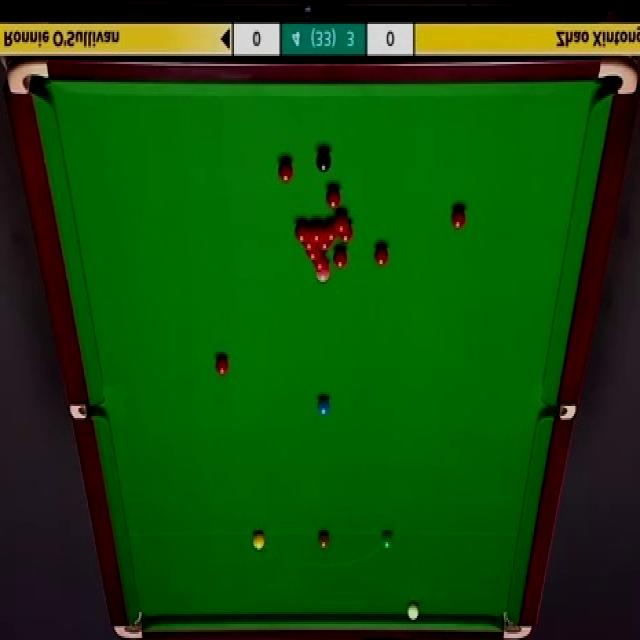pocket: (6, 55, 49, 97), (594, 58, 637, 97), (501, 608, 530, 640), (113, 612, 143, 640), (67, 403, 105, 420), (540, 405, 574, 420)
